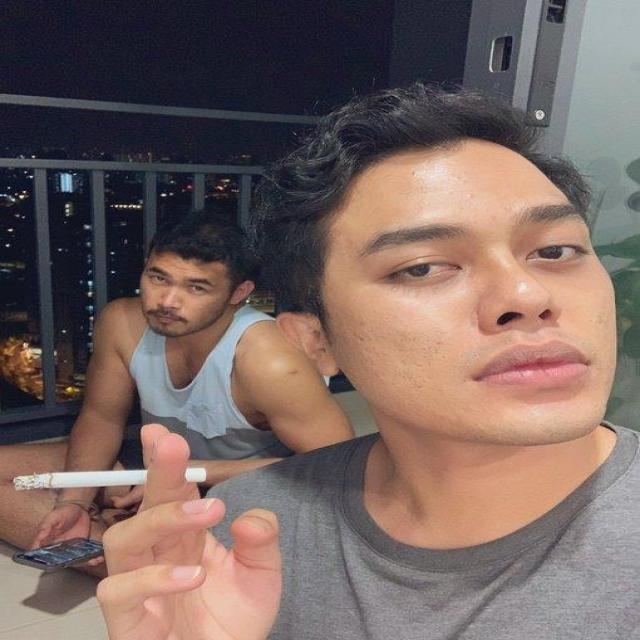rokok: (10, 460, 208, 496)
